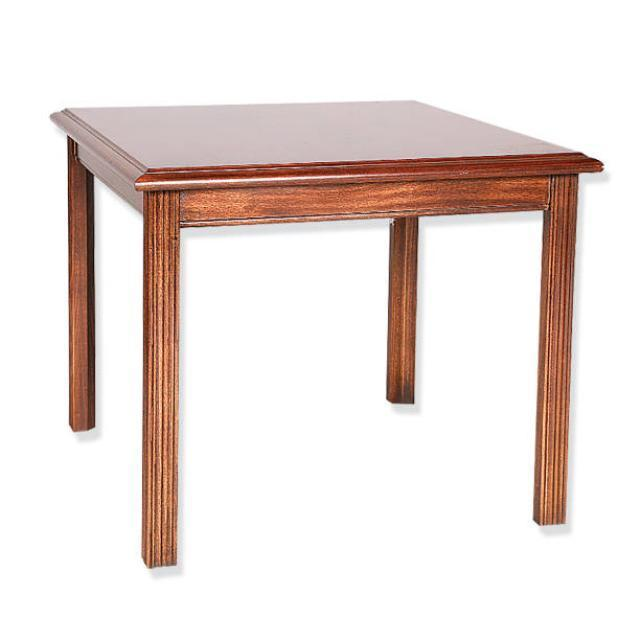table: (49, 97, 605, 568)
